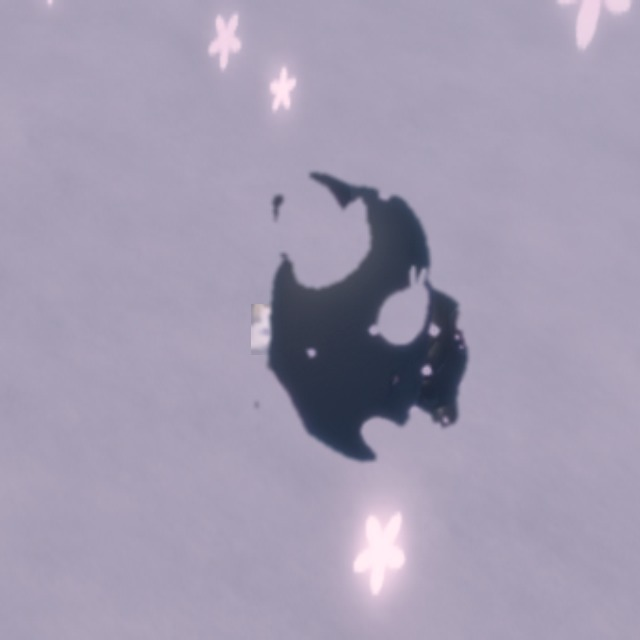urso_branco: (251, 304, 305, 355)
urso_preto: (217, 121, 503, 516)
